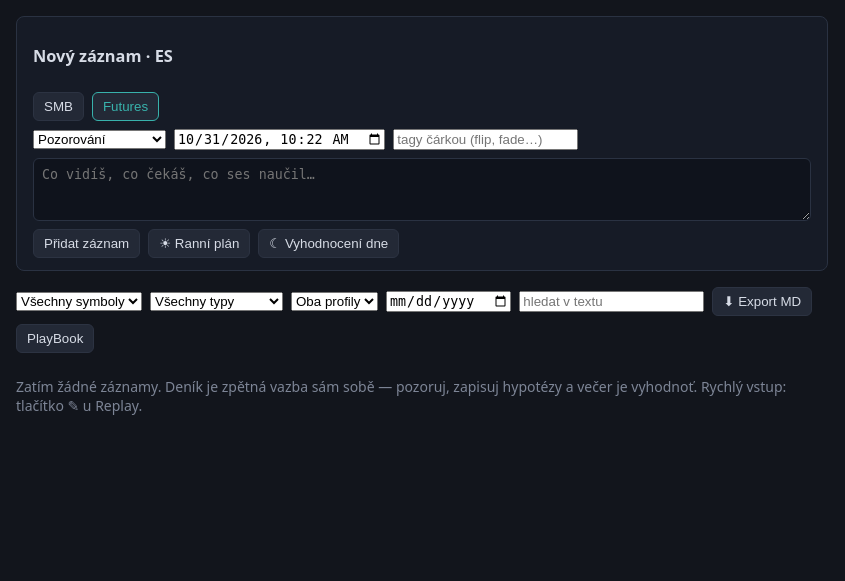
Scenario: neuložený záznam se ohlásí, nezmizí potichu
Type "Pozoruji." into the text box named "Text záznamu" at point(422, 190), box left=33, top=158, right=811, bottom=221
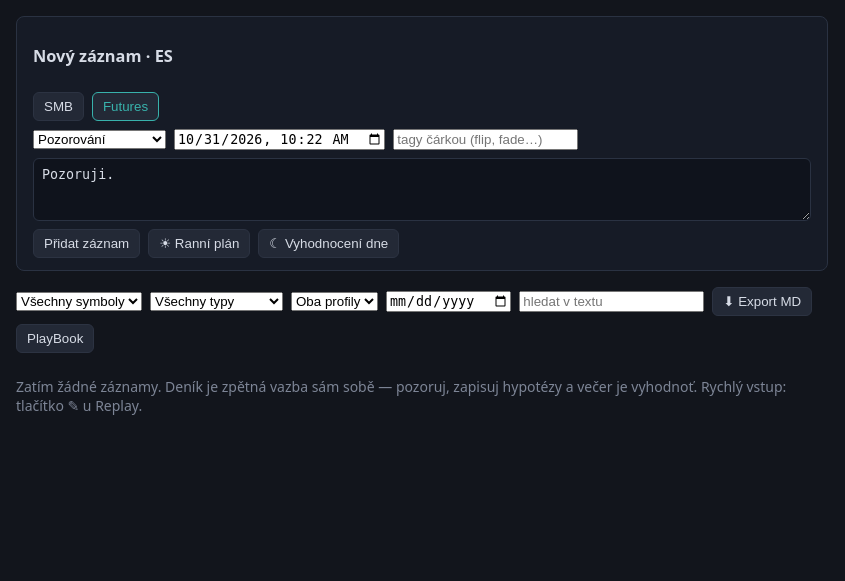
Click the button "Přidat záznam" at point(87, 244), box left=33, top=229, right=140, bottom=258
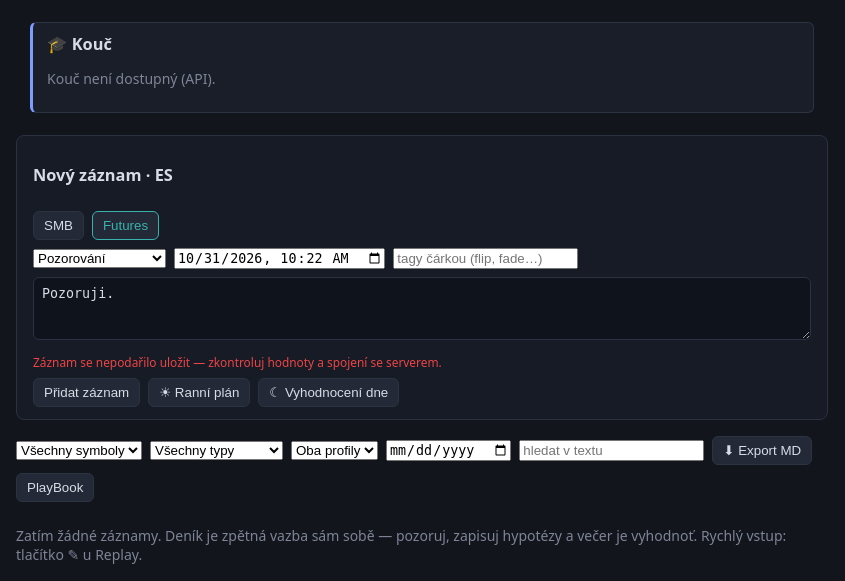
expect the text "nepodařilo uložit" is shown: met, box left=33, top=354, right=442, bottom=370
